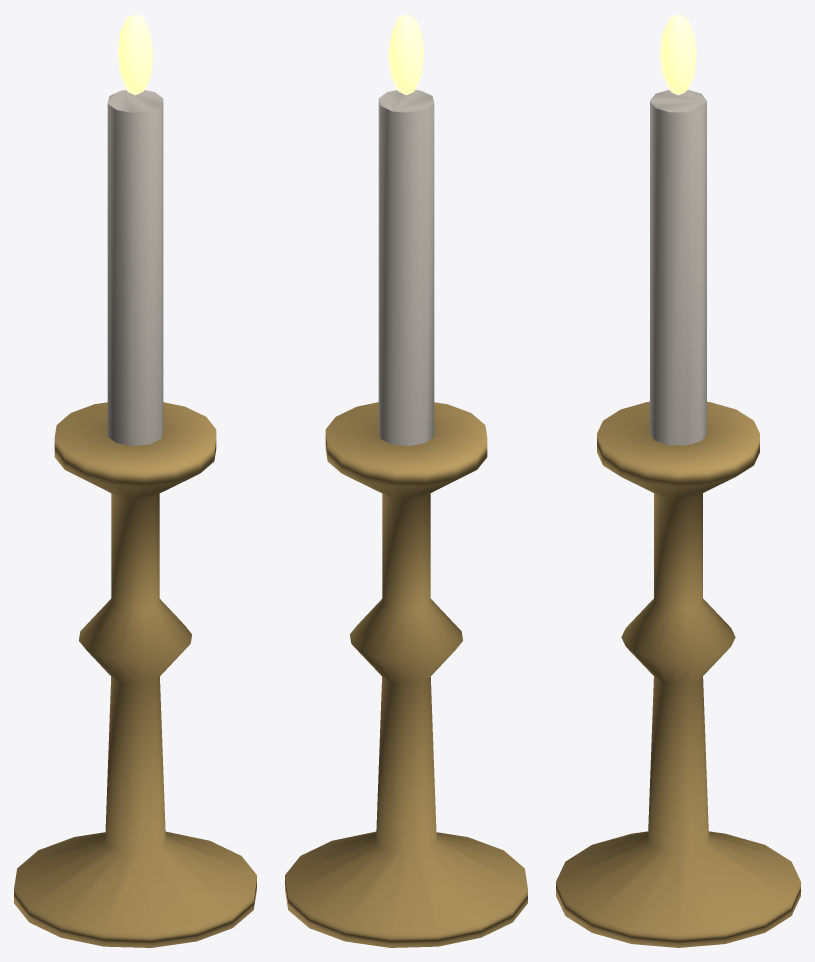
The model's file is chan-nen.glb.
3 renders of one model, left to right at view 1: azimuth 30°, elevation 25°; view 2: azimuth 150°, elevation 25°; view 3: azimuth 270°, elevation 25°, orthographic.
Visible parts, largest first — view 1: chan-nen; view 2: chan-nen; view 3: chan-nen.
Boxes of the visible parts, x1,y1,x2,y2 form: chan-nen: (14, 14, 256, 947); chan-nen: (285, 14, 527, 947); chan-nen: (556, 14, 800, 947).
Bounding box in the file's own units: 0.12 × 0.477 × 0.12.
